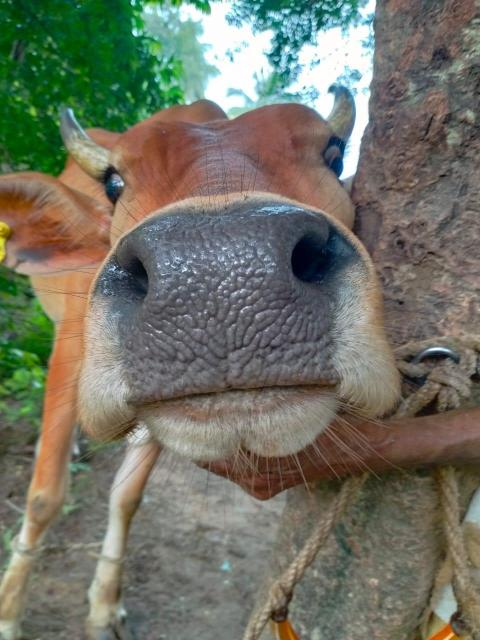Muzzle: (125, 228, 340, 384)
